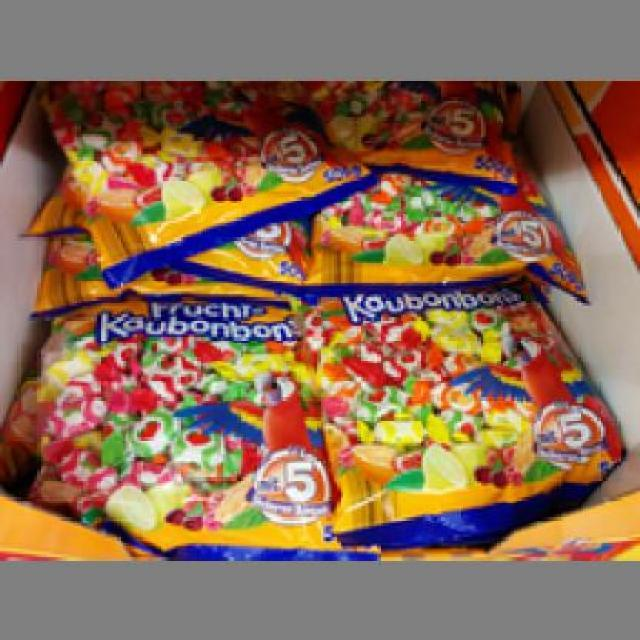Candy: (308, 263, 626, 532), (32, 289, 328, 540)
